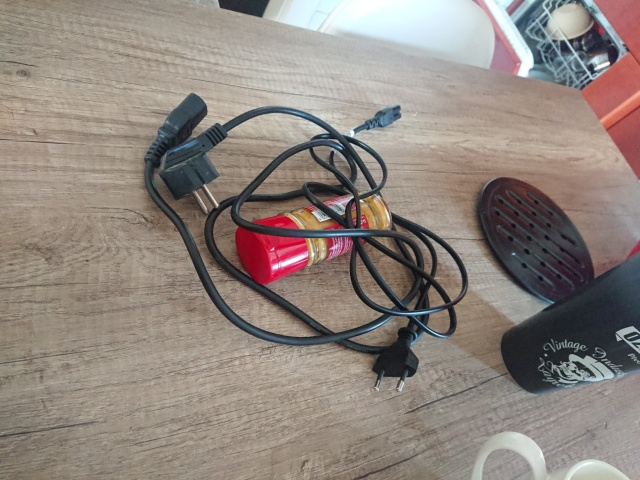Kotanyi Curry Spices Mix 70g: (232, 188, 395, 286)
